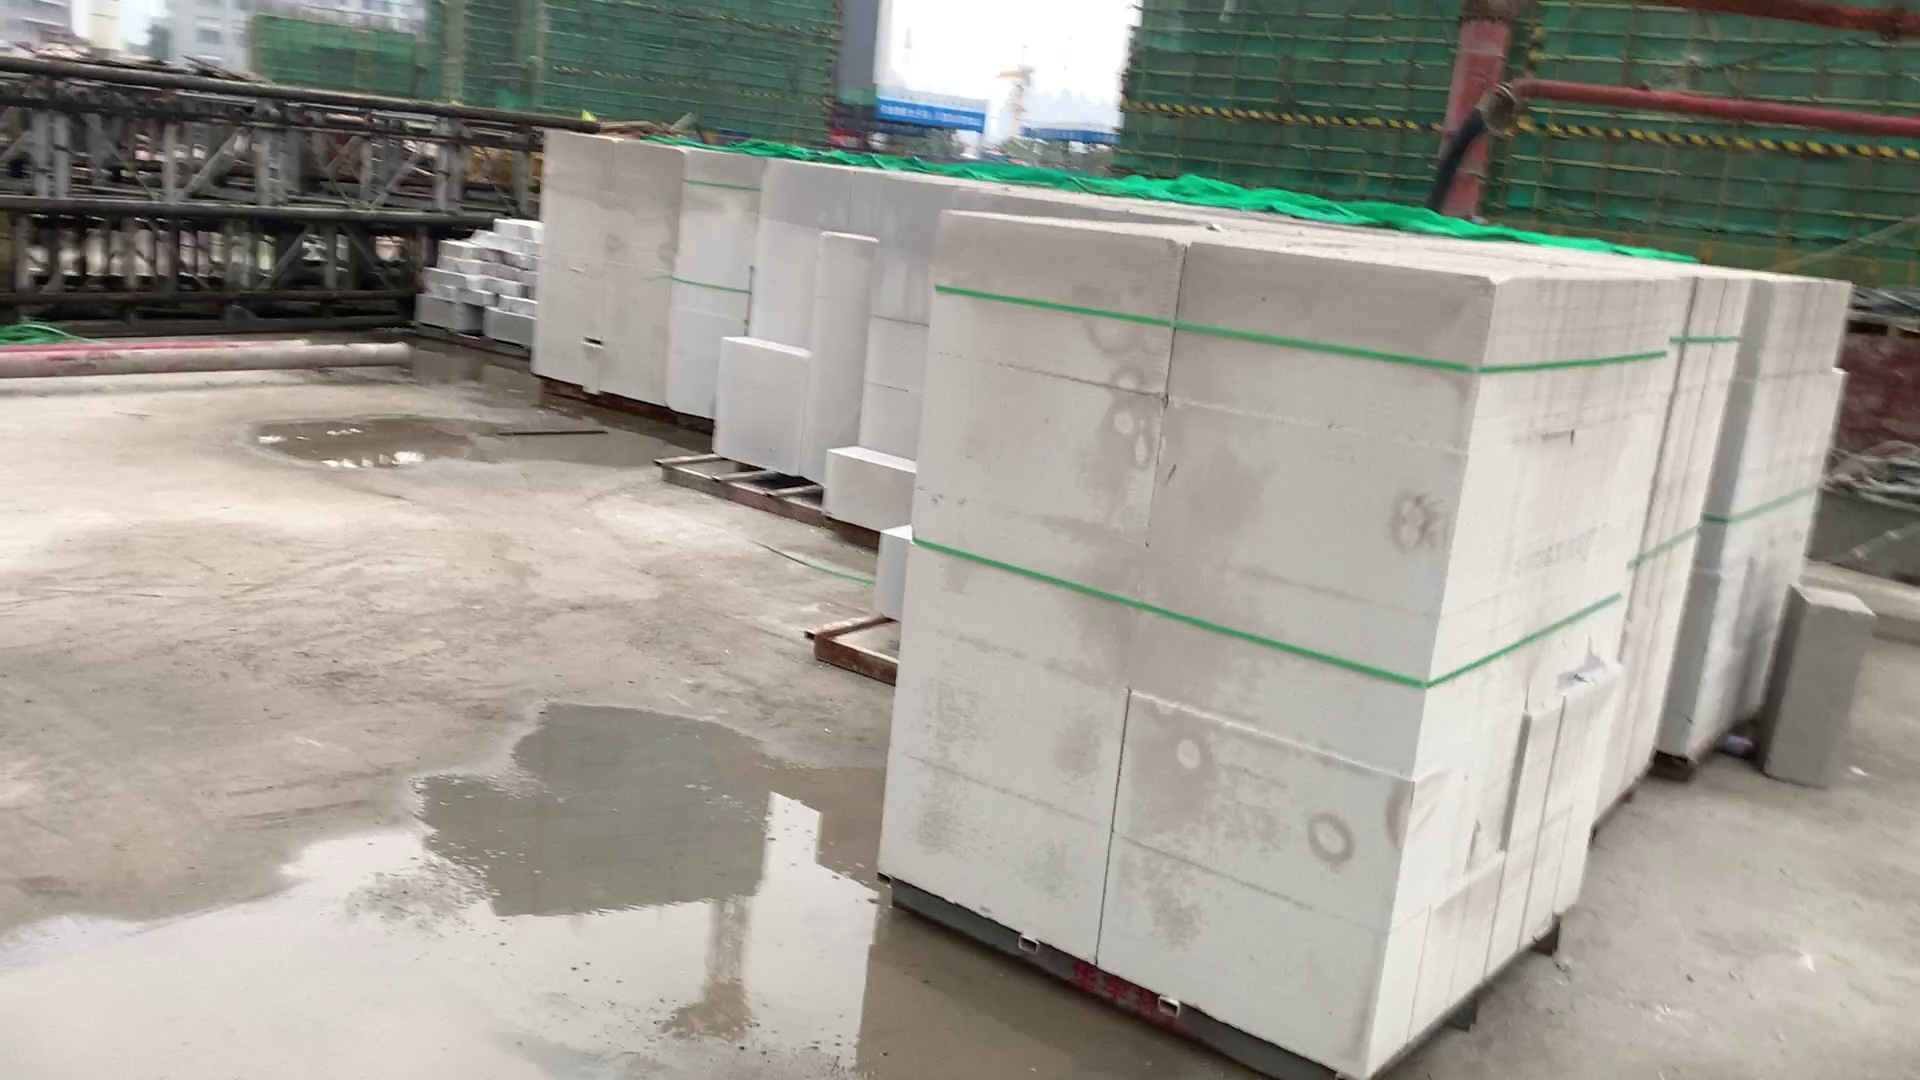brickwork: (895, 215, 1501, 1065), (731, 165, 857, 483), (530, 133, 669, 407), (852, 175, 926, 537), (673, 142, 738, 425)
